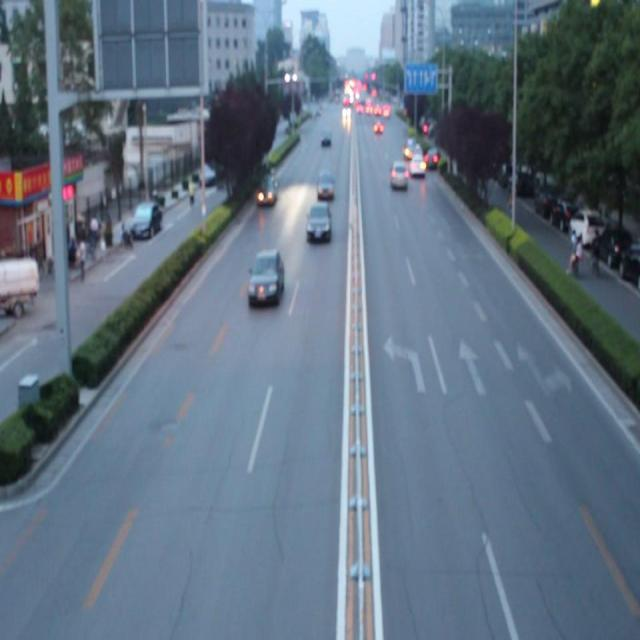car: (248, 248, 283, 306), (306, 203, 331, 239), (258, 173, 278, 207), (314, 170, 334, 202)
